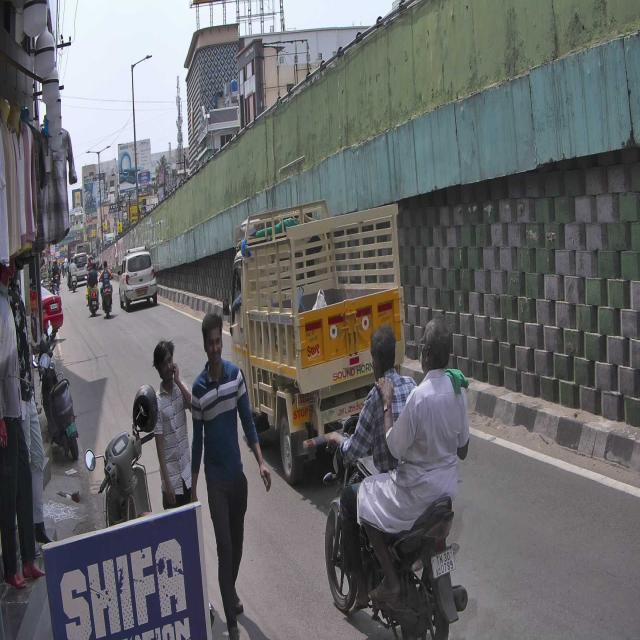double_rider: (326, 319, 470, 640)
